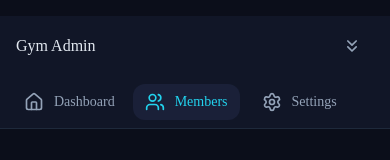
Scenario: Sidebar › collapses to an icon-only rail hiding labels and group captions
Click the button named "Collapse sidebar" at (352, 46), box [330,28,374,64]
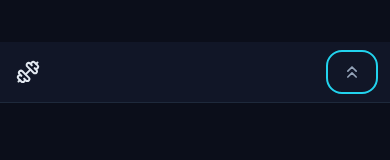
Expected: the text "Gym Admin" is gone
Expected: the text "Members" is gone
Expected: the icon with test id "collapsed-brand" is shown, [16,60,40,84]
